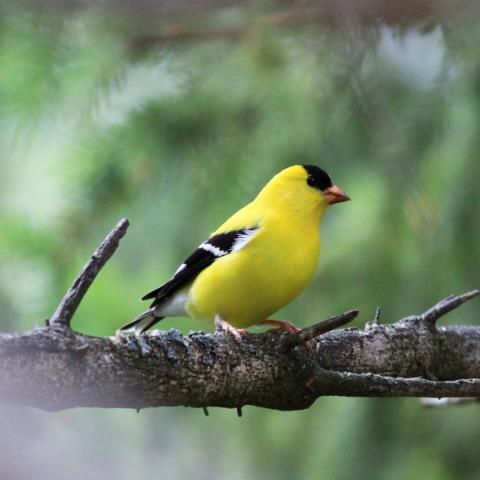bird: (117, 161, 352, 352)
